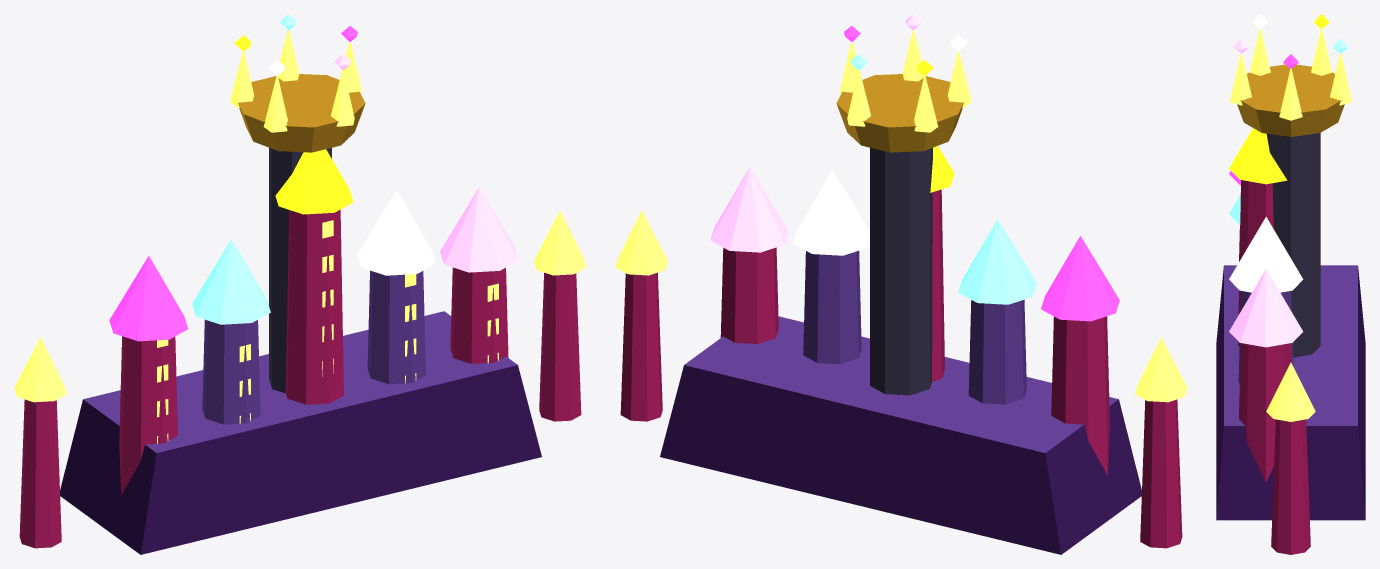
Rendered from W6_Far_Palace.fbx.
The picture shows the model from 3 angles, left to right: view 1: azimuth 30°, elevation 25°; view 2: azimuth 150°, elevation 25°; view 3: azimuth 270°, elevation 25°; orthographic projection. The views are drawn at different scales.
Visible parts, largest first — view 1: W6_Far_Palace; view 2: W6_Far_Palace; view 3: W6_Far_Palace.
Part boxes in pixels (x1=…): W6_Far_Palace: x1=14, y1=14, x2=586, y2=554; W6_Far_Palace: x1=615, y1=14, x2=1187, y2=554; W6_Far_Palace: x1=1216, y1=14, x2=1365, y2=554.
Size of the model in its own units: 240 by 177 by 60.
